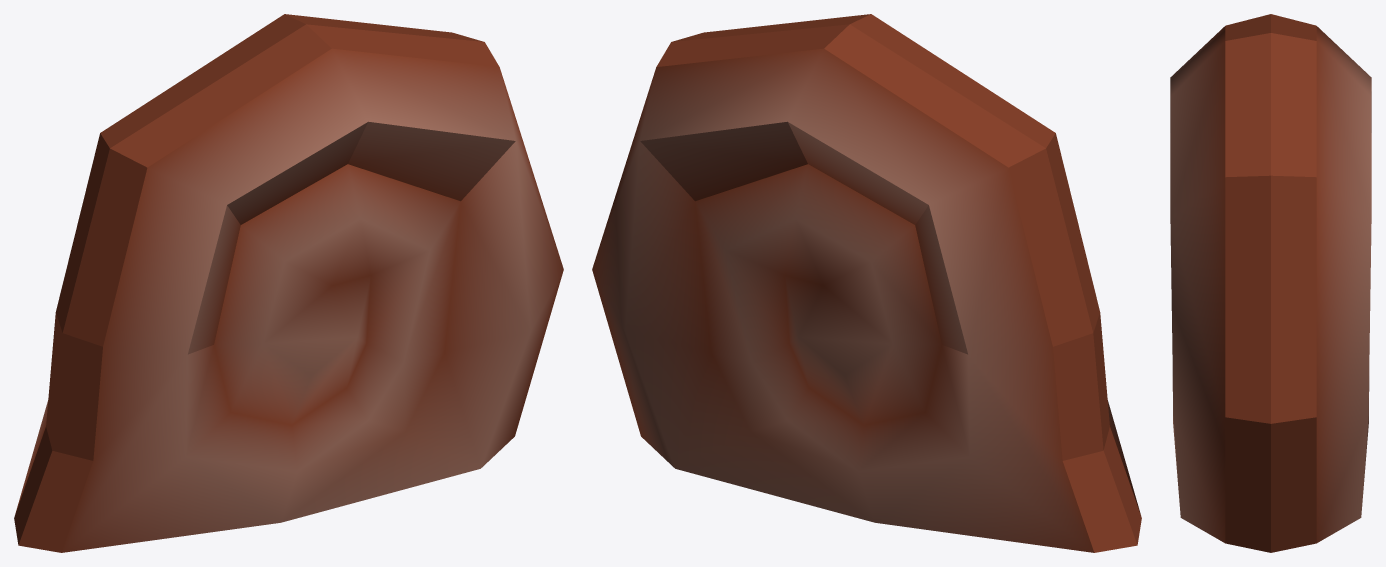
The model's file is MODEL_PowerUp_Slow (1).fbx.
3 views of the same model, side by side, from view 1: azimuth 30°, elevation 25°; view 2: azimuth 150°, elevation 25°; view 3: azimuth 270°, elevation 25° (orthographic). The views are drawn at different scales.
Visible parts, largest first — view 1: MESH_Slow; view 2: MESH_Slow; view 3: MESH_Slow.
Boxes of the visible parts, <box> form: MESH_Slow: <box>14,14,563,552</box>; MESH_Slow: <box>592,14,1141,552</box>; MESH_Slow: <box>1170,14,1371,552</box>.
Size of the model in its own units: 59.05 by 47.61 by 19.98.
